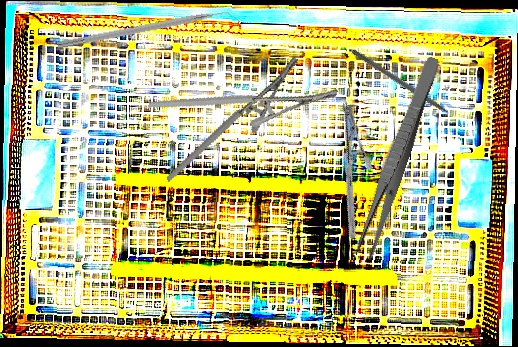Chopper: (56, 6, 240, 60)
Dressing Forceps: (351, 53, 443, 262)
Hook Surgical: (350, 48, 463, 125)
Needle Holder: (142, 54, 322, 183), (147, 39, 339, 158), (287, 101, 411, 240)
